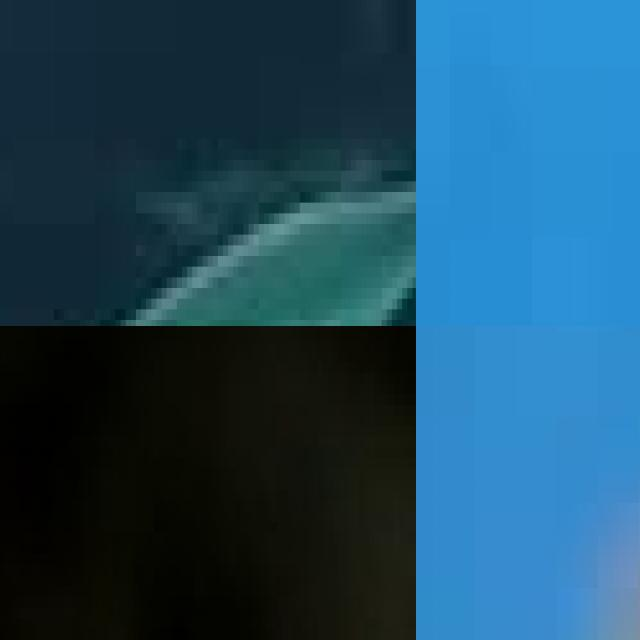fish: (0, 10, 416, 326), (416, 326, 640, 640)
